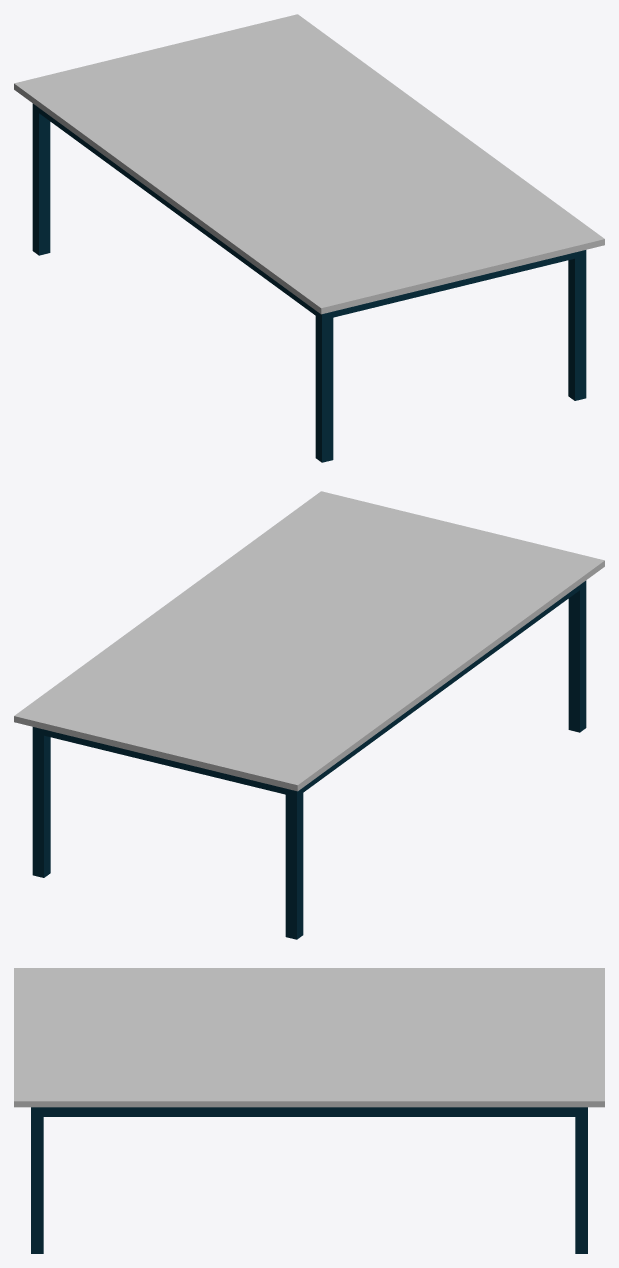
Rendered from CK-zhuozi0001-CJBZ.FBX.
The picture shows the model from 3 angles, top to bottom: view 1: azimuth 30°, elevation 25°; view 2: azimuth 150°, elevation 25°; view 3: azimuth 270°, elevation 25°; orthographic projection. The views are drawn at different scales.
Visible parts, largest first — view 1: CK-zhuozi0001-CJBZ; view 2: CK-zhuozi0001-CJBZ; view 3: CK-zhuozi0001-CJBZ.
Boxes of the visible parts, x1=… form: CK-zhuozi0001-CJBZ: x1=14, y1=14, x2=604, y2=462; CK-zhuozi0001-CJBZ: x1=14, y1=491, x2=604, y2=939; CK-zhuozi0001-CJBZ: x1=14, y1=968, x2=604, y2=1253.
Bounding box in the file's own units: 0.8047 × 0.4427 × 1.51.
